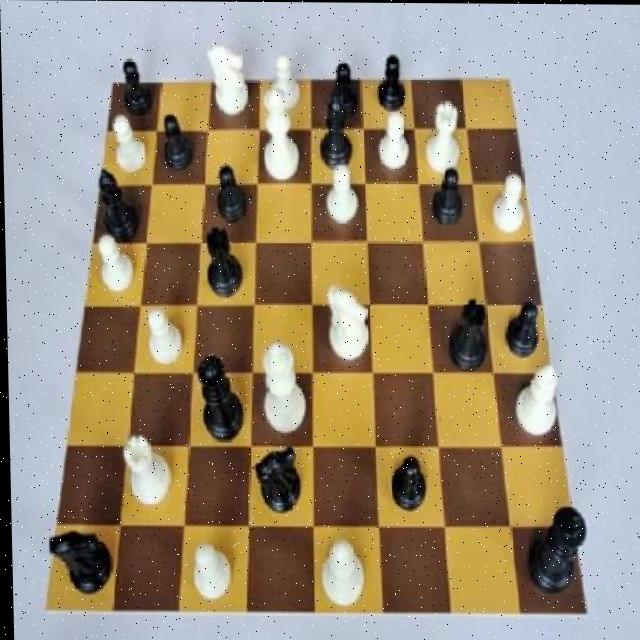bishop: (94, 163, 144, 246), (315, 93, 364, 177)
black-bishop: (518, 501, 592, 601)
black-king: (43, 520, 115, 604), (249, 440, 312, 524)
black-knight: (153, 106, 202, 181), (108, 56, 160, 125), (424, 156, 468, 234), (497, 286, 541, 362), (368, 42, 412, 117), (321, 50, 361, 125), (210, 160, 255, 226), (387, 453, 432, 515)
black-pawn: (192, 346, 245, 445)
black-queen: (441, 293, 495, 375), (199, 223, 252, 302)
black-rook: (312, 531, 372, 614), (511, 351, 565, 442)
white-bishop: (253, 337, 305, 442)
white-king: (205, 38, 259, 123), (323, 279, 369, 369)
white-knight: (189, 536, 240, 609), (317, 154, 364, 232), (89, 231, 137, 299), (106, 107, 147, 186), (372, 105, 417, 174), (264, 46, 304, 123), (491, 167, 528, 249), (139, 302, 184, 368)
white-pawn: (254, 92, 307, 189)
white-queen: (120, 429, 178, 518), (418, 96, 465, 180)
